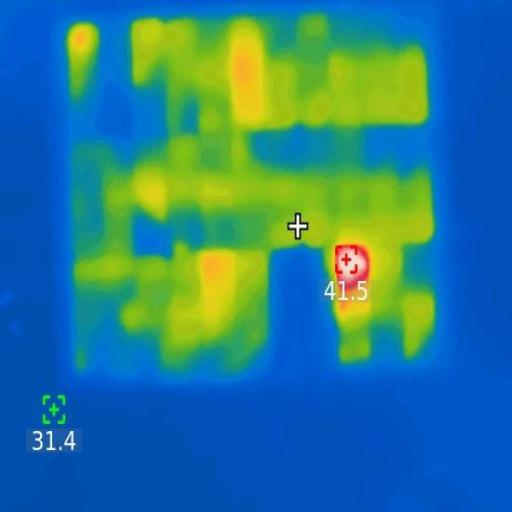hotspot: (334, 247, 367, 284)
